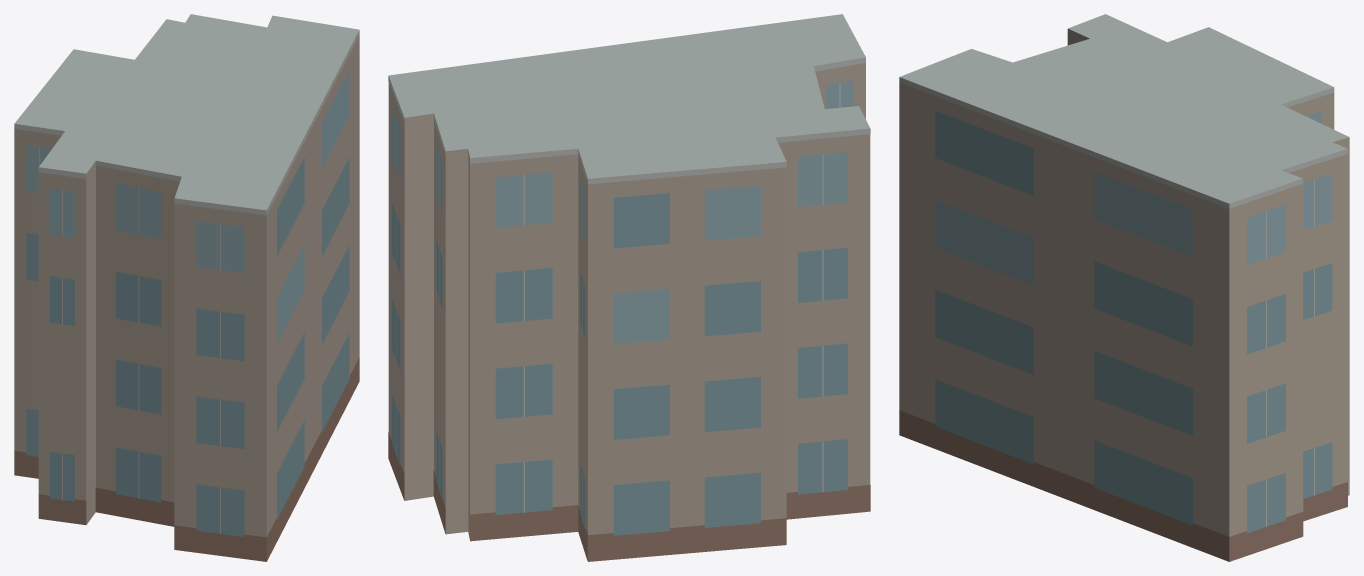
File: survey-upis-32503053.glb
The picture shows the model from 3 angles, left to right: view 1: azimuth 30°, elevation 25°; view 2: azimuth 150°, elevation 25°; view 3: azimuth 270°, elevation 25°; orthographic projection. The views are drawn at different scales.
Visible parts, largest first — view 1: survey-upis-32503053.tmp; view 2: survey-upis-32503053.tmp; view 3: survey-upis-32503053.tmp.
Boxes of the visible parts, bbox=[...] form: survey-upis-32503053.tmp: bbox=[14, 14, 359, 561]; survey-upis-32503053.tmp: bbox=[388, 14, 870, 561]; survey-upis-32503053.tmp: bbox=[899, 14, 1349, 561].
Bounding box in the file's own units: 19.09 × 16.8 × 19.16.
